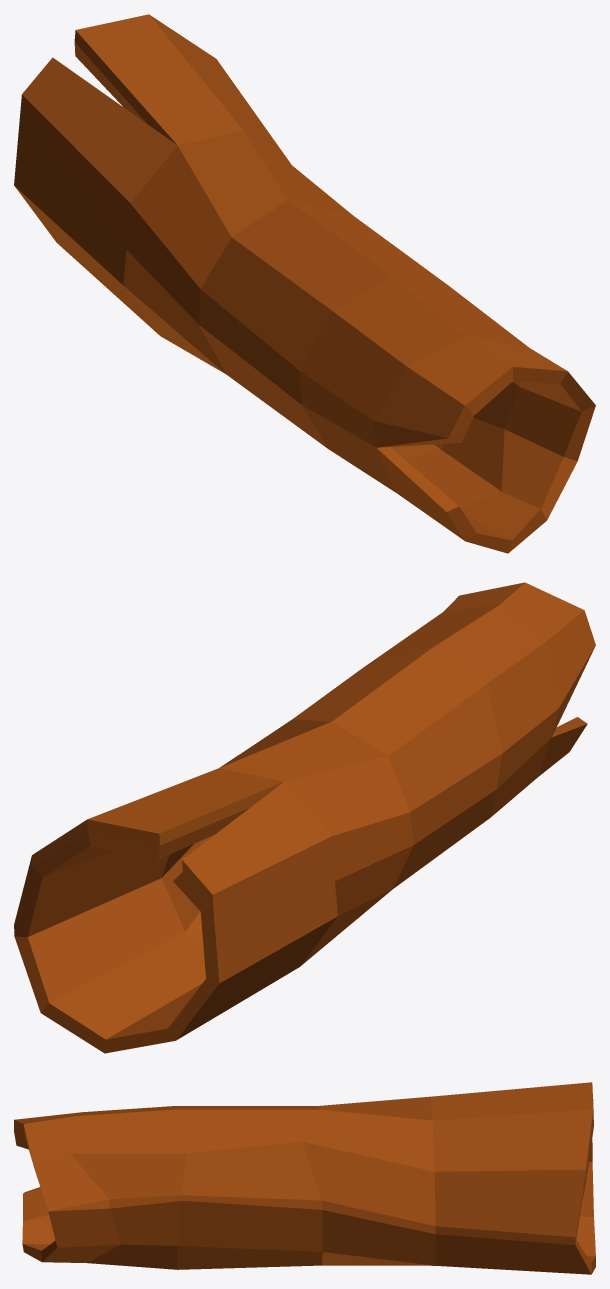
File: Log_02.fbx
The picture shows the model from 3 angles, top to bottom: view 1: azimuth 30°, elevation 25°; view 2: azimuth 150°, elevation 25°; view 3: azimuth 270°, elevation 25°; orthographic projection. The views are drawn at different scales.
Parts seen in each view (by area): view 1: Log_02; view 2: Log_02; view 3: Log_02.
Boxes of the visible parts, x1,y1,x2,y2 form: Log_02: (14, 14, 595, 553); Log_02: (14, 582, 595, 1053); Log_02: (14, 1082, 595, 1274).
Size of the model in its own units: 92.95 by 91.62 by 289.
